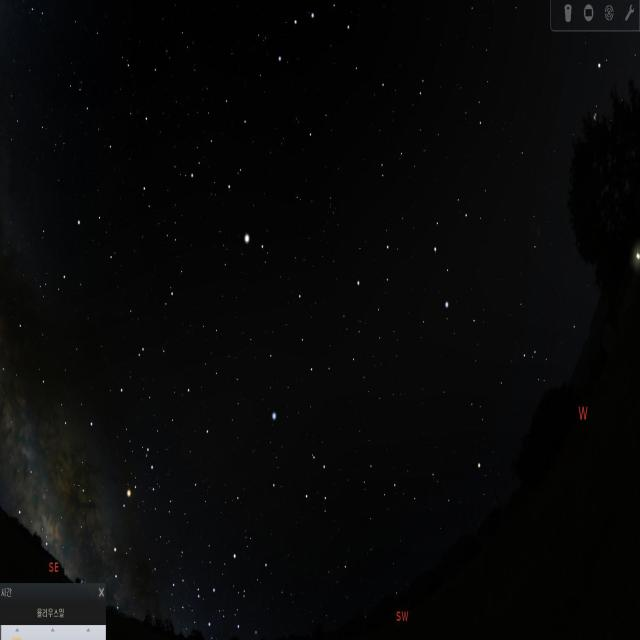bootes: (205, 81, 262, 244)
leo: (341, 186, 480, 330)
scorpius: (105, 419, 168, 587)
